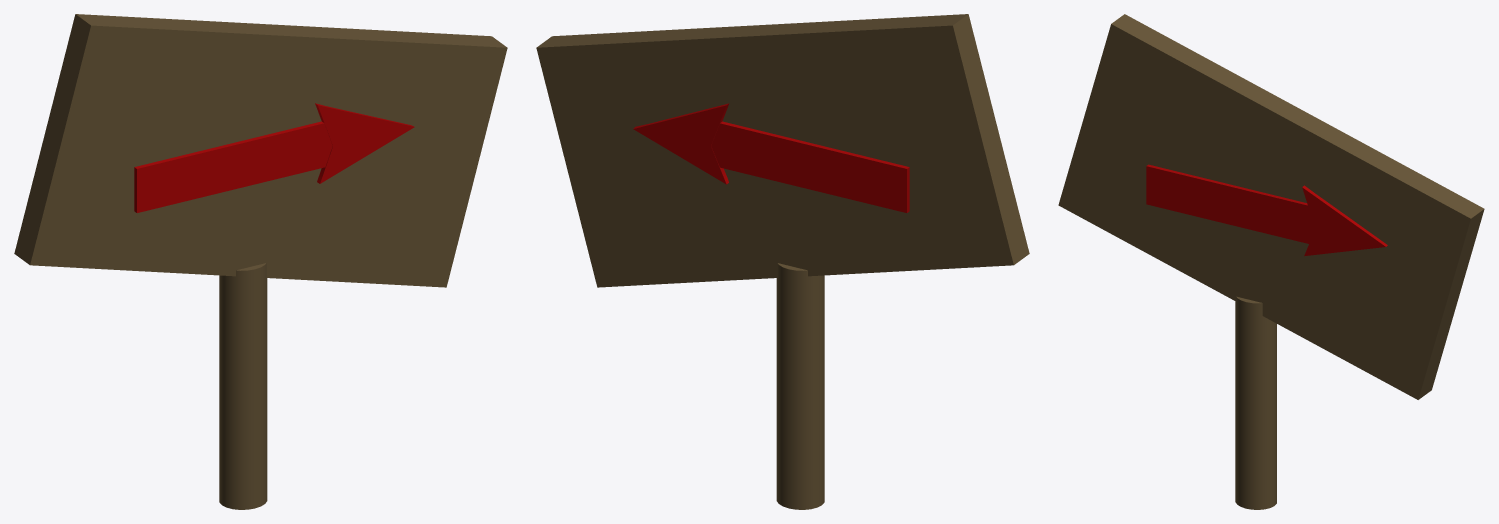
The model's file is Sign.fbx.
The picture shows the model from 3 angles, left to right: view 1: azimuth 30°, elevation 25°; view 2: azimuth 150°, elevation 25°; view 3: azimuth 330°, elevation 25°; orthographic projection. The views are drawn at different scales.
Parts seen in each view (by area): view 1: pCube5; view 2: pCube5; view 3: pCube5.
Boxes of the visible parts, box(x1,y1,x2,y2) form: pCube5: box(14, 14, 507, 509); pCube5: box(536, 14, 1029, 509); pCube5: box(1058, 14, 1484, 509).
Bounding box in the file's own units: 6.3 × 6.55 × 0.5293.
